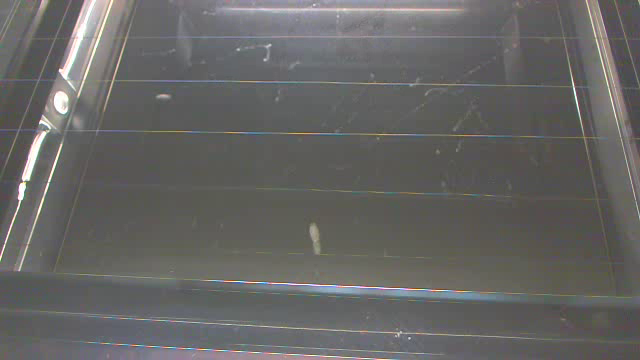alpha: (307, 215, 325, 258), (150, 89, 175, 102)
